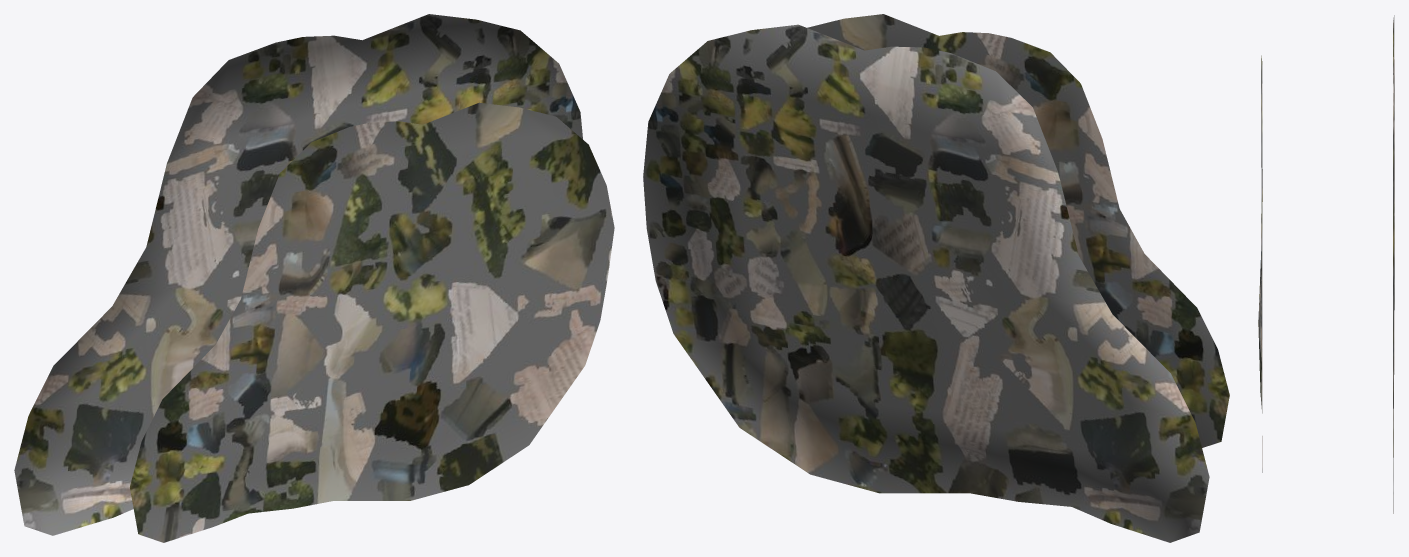
3 views of the same model, side by side, from view 1: azimuth 30°, elevation 25°; view 2: azimuth 150°, elevation 25°; view 3: azimuth 270°, elevation 25° (orthographic). The views are drawn at different scales.
Size of the model in its own units: 0.9711 by 0.7499 by 0.2085.
